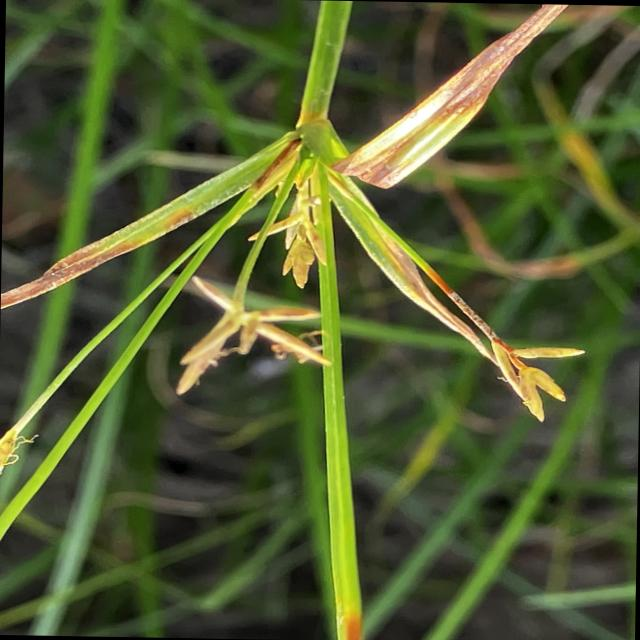cyperus: (0, 58, 574, 492)
